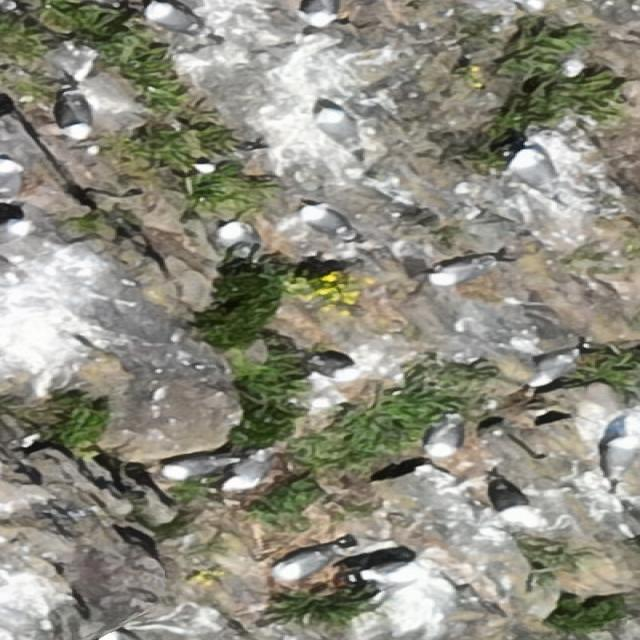umineko: (485, 472, 546, 529), (508, 144, 562, 203), (430, 250, 503, 288), (140, 3, 210, 39), (220, 450, 282, 490), (316, 106, 362, 156), (304, 202, 356, 244), (55, 87, 94, 141), (156, 452, 222, 481), (601, 436, 636, 490), (215, 220, 253, 261), (428, 418, 462, 461), (302, 354, 358, 379), (280, 550, 327, 576), (295, 1, 338, 29), (535, 354, 573, 382), (3, 157, 25, 195)
